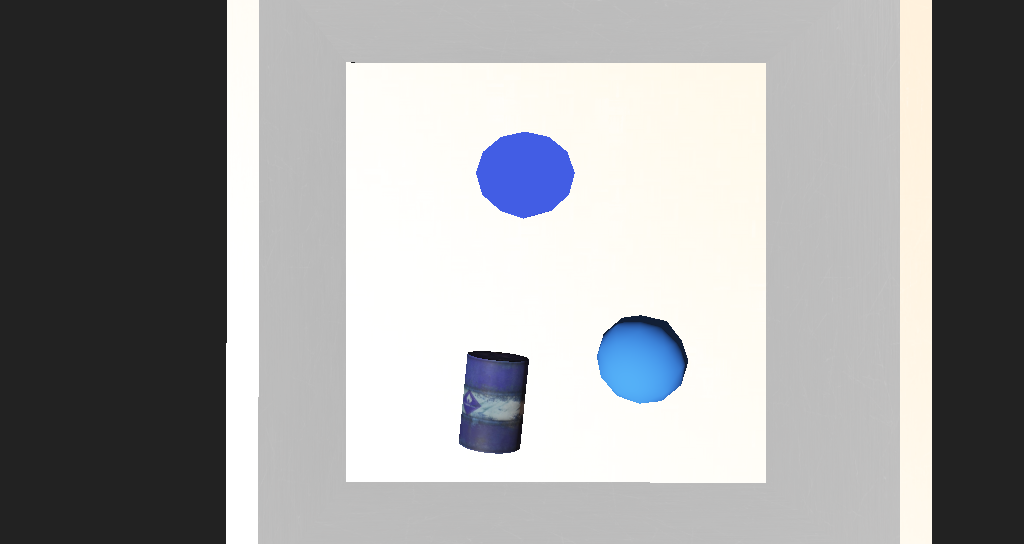cone: (431, 308, 485, 360)
cylinder: (445, 198, 512, 260)
sphere: (536, 286, 596, 334)
